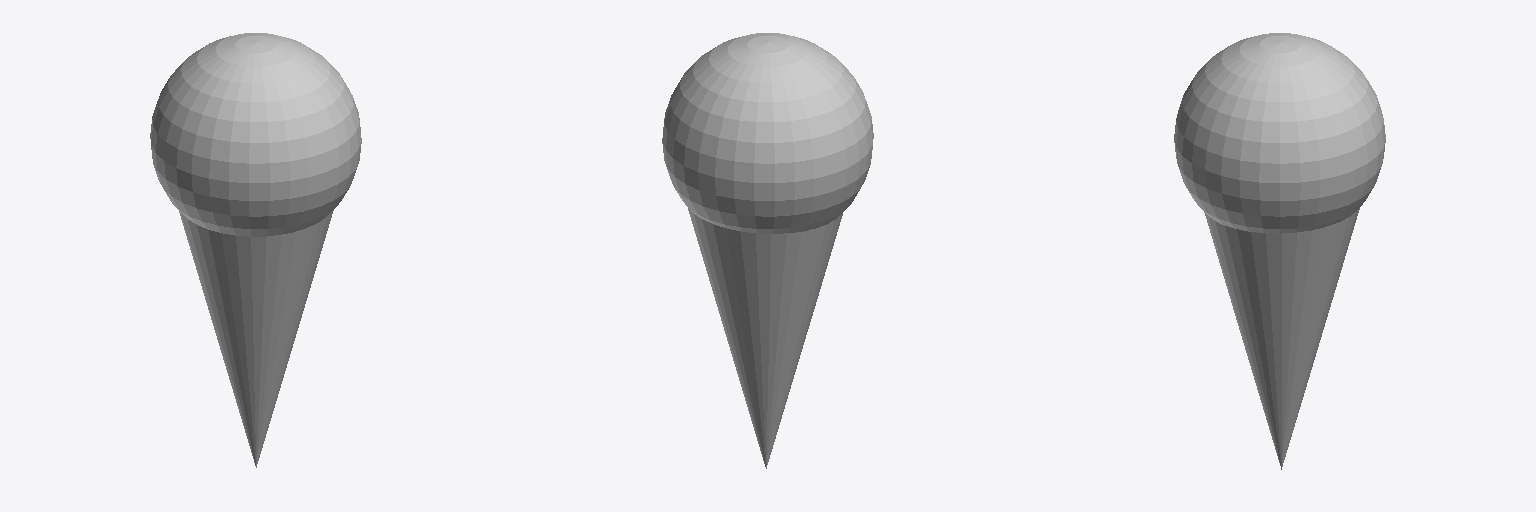
Rendered from icecream.obj.
The picture shows the model from 3 angles: view 1: azimuth 30°, elevation 25°; view 2: azimuth 150°, elevation 25°; view 3: azimuth 270°, elevation 25°; orthographic projection.
Visible parts, largest first — view 1: icecream_Sphere; view 2: icecream_Sphere; view 3: icecream_Sphere.
Boxes of the visible parts, x1=… form: icecream_Sphere: x1=150, y1=33, x2=361, y2=467; icecream_Sphere: x1=662, y1=33, x2=873, y2=468; icecream_Sphere: x1=1174, y1=33, x2=1385, y2=469.
Size of the model in its own units: 1.39 by 3.09 by 1.39.